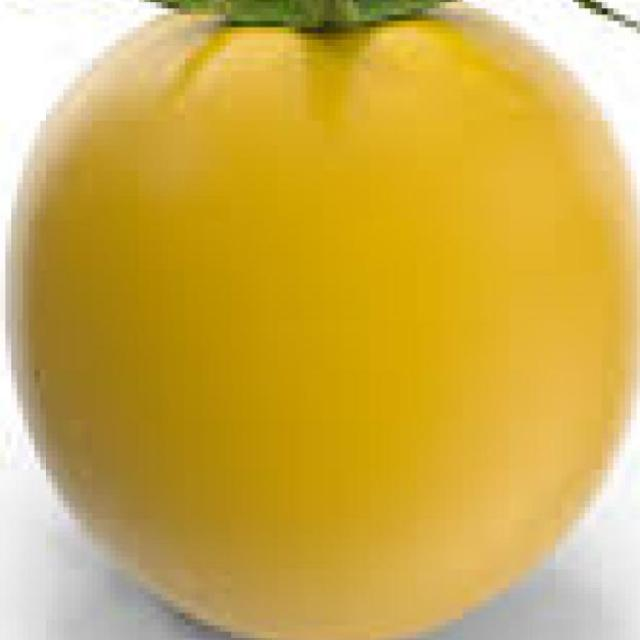Healthy: (0, 9, 631, 640)
